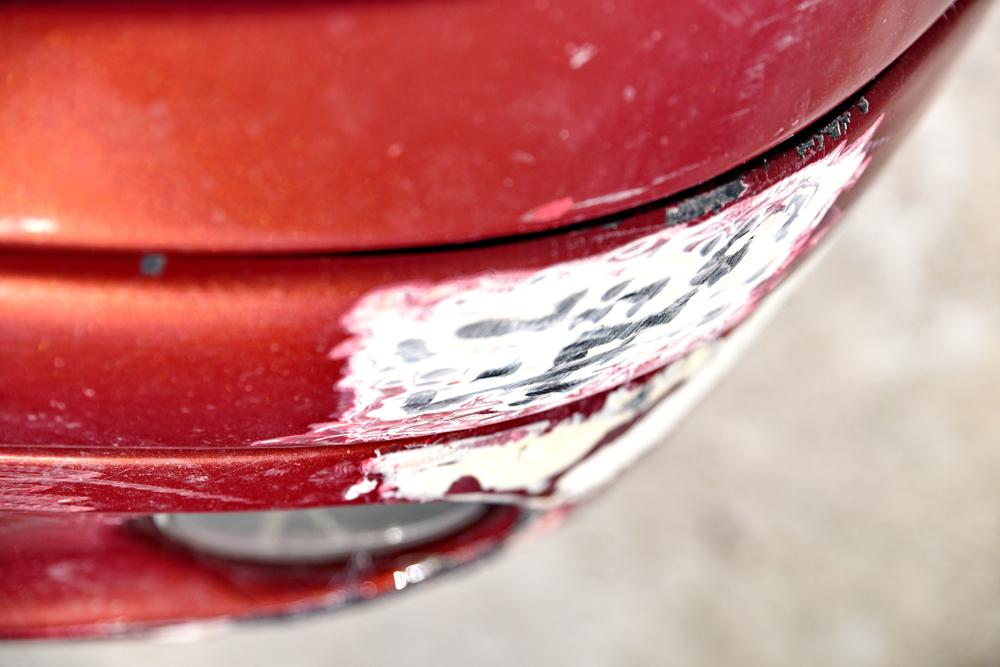scratch: (0, 100, 889, 522)
